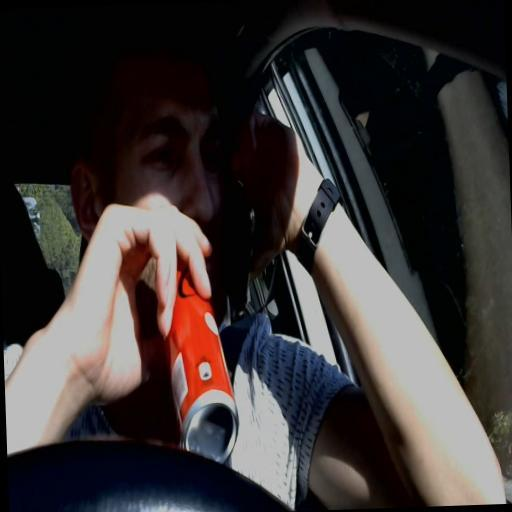Drinking: (70, 62, 238, 442)
